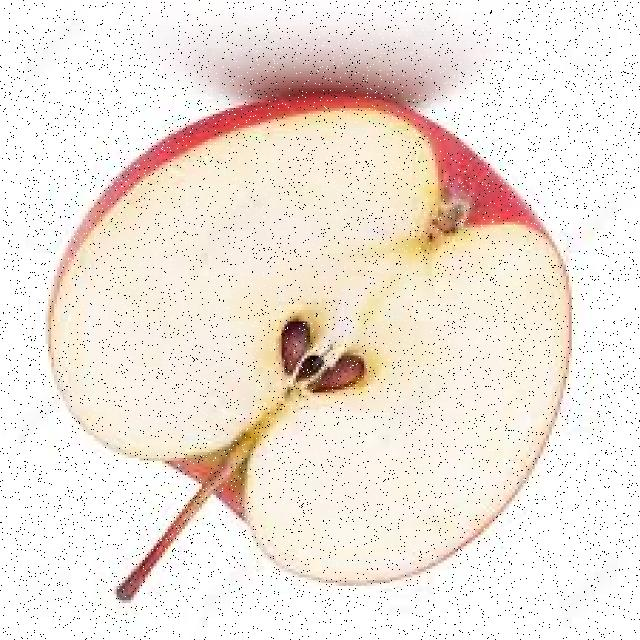Apple: (42, 91, 580, 592)
